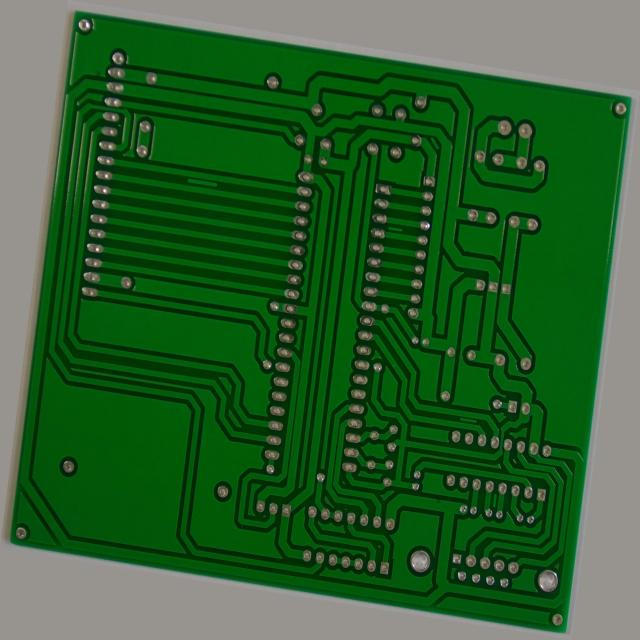spurious_copper: (152, 176, 193, 192), (412, 86, 431, 109), (484, 400, 509, 415), (379, 196, 402, 208), (530, 484, 542, 504)
